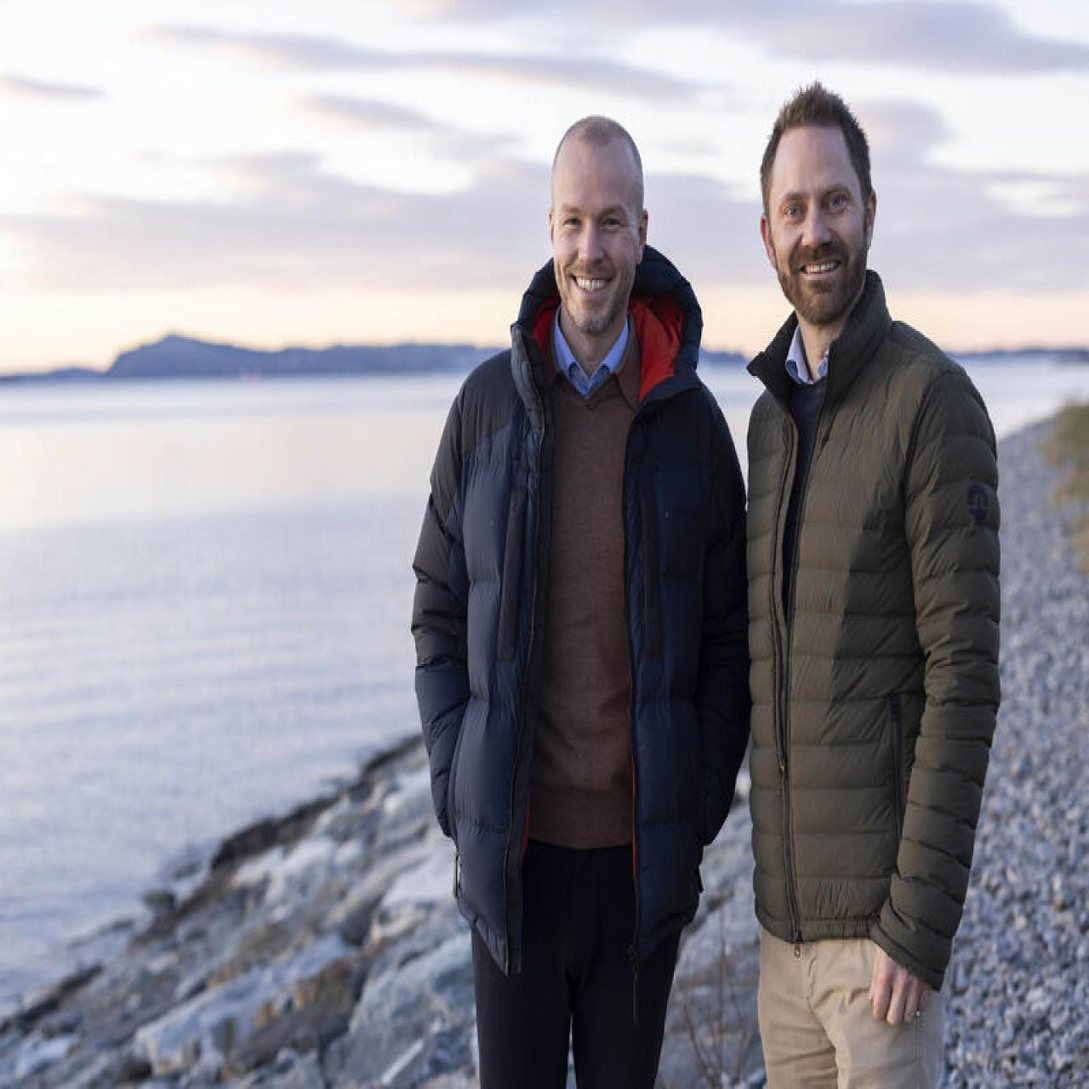NO_Safety_Vest: (471, 360, 706, 883), (751, 356, 969, 854)
Person: (402, 79, 752, 1089), (741, 58, 1008, 1089)
